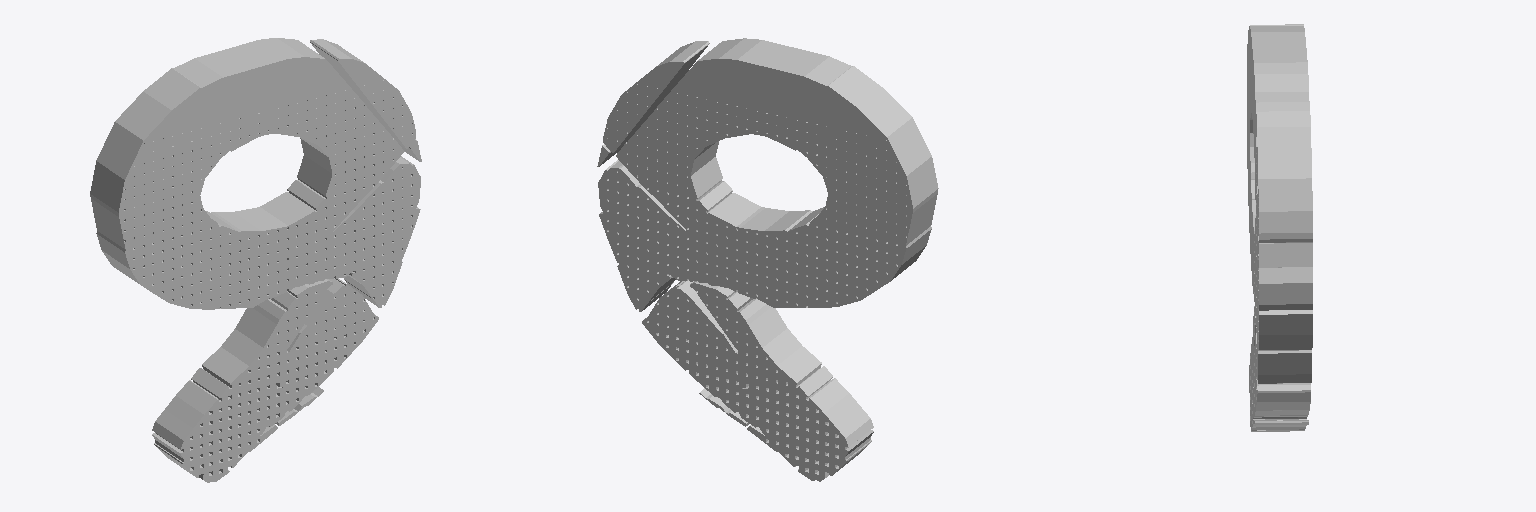
The model's file is 9_naranja.obj.
3 views of the same model, side by side, from view 1: azimuth 30°, elevation 25°; view 2: azimuth 150°, elevation 25°; view 3: azimuth 270°, elevation 25° (orthographic).
Parts seen in each view (by area): view 1: Mesh1 G_9_1 Model, Mesh4 G_9_1 Model, Mesh2 G_9_1 Model; view 2: Mesh1 G_9_1 Model, Mesh4 G_9_1 Model, Mesh2 G_9_1 Model; view 3: Mesh1 G_9_1 Model, Mesh2 G_9_1 Model, Mesh4 G_9_1 Model, Mesh3 G_9_1 Model.
Part boxes in pixels (x1,y1,x2,y2): Mesh1 G_9_1 Model: (90,38,420,309); Mesh4 G_9_1 Model: (152,278,378,482); Mesh2 G_9_1 Model: (310,39,415,148); Mesh1 G_9_1 Model: (598,38,938,311); Mesh4 G_9_1 Model: (642,280,873,481); Mesh2 G_9_1 Model: (603,41,709,153); Mesh1 G_9_1 Model: (1247,24,1312,383); Mesh2 G_9_1 Model: (1256,102,1312,242); Mesh4 G_9_1 Model: (1249,306,1310,431); Mesh3 G_9_1 Model: (1259,243,1312,267).
Bounding box in the file's own units: 66.56 × 82.57 × 12.32.